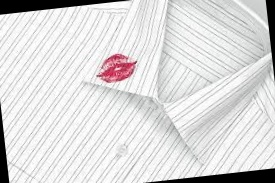lipstick: (99, 52, 138, 82)
